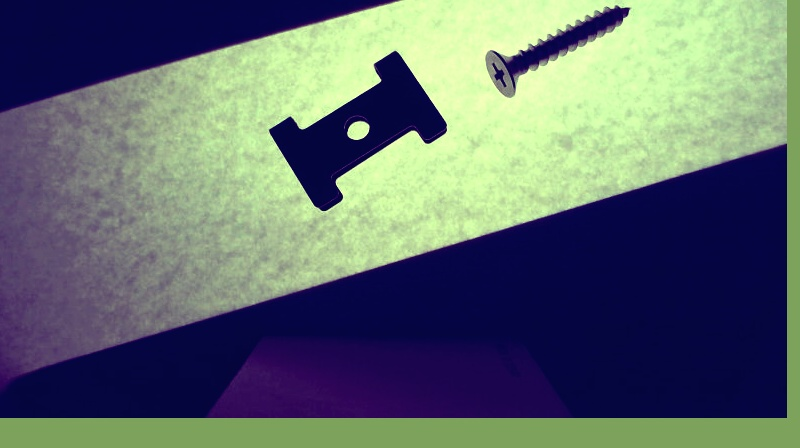O002: (268, 49, 449, 209)
S001: (483, 0, 631, 99)
